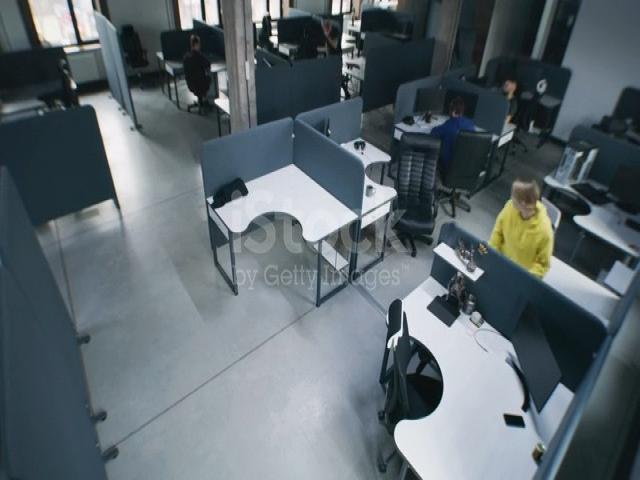EMPTY_CHAIR: (369, 273, 443, 432), (389, 131, 440, 241), (108, 11, 160, 90), (42, 44, 92, 108), (331, 48, 363, 115), (535, 191, 574, 240), (596, 106, 639, 150)
PERSON_IN_CHAIR: (431, 88, 487, 218), (177, 21, 227, 128), (487, 56, 539, 154)
